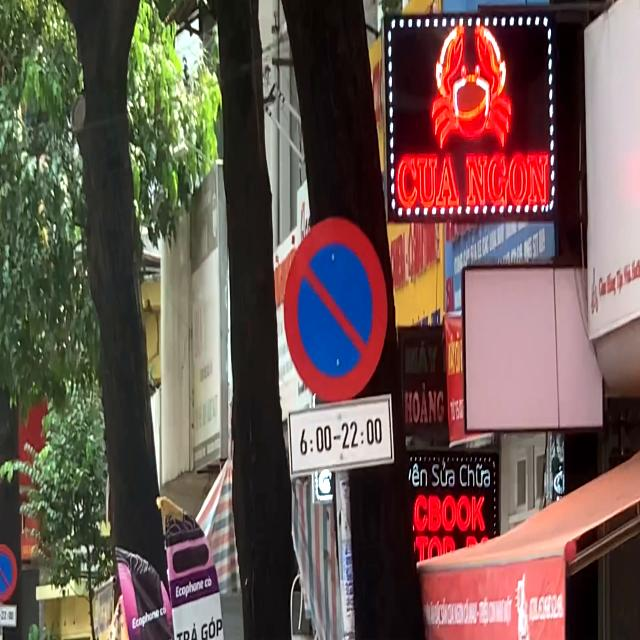P.131a: (284, 217, 389, 402)
